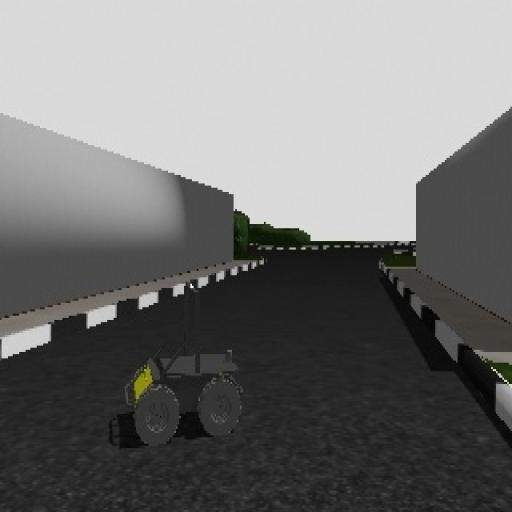huskya200: (112, 272, 256, 471)
